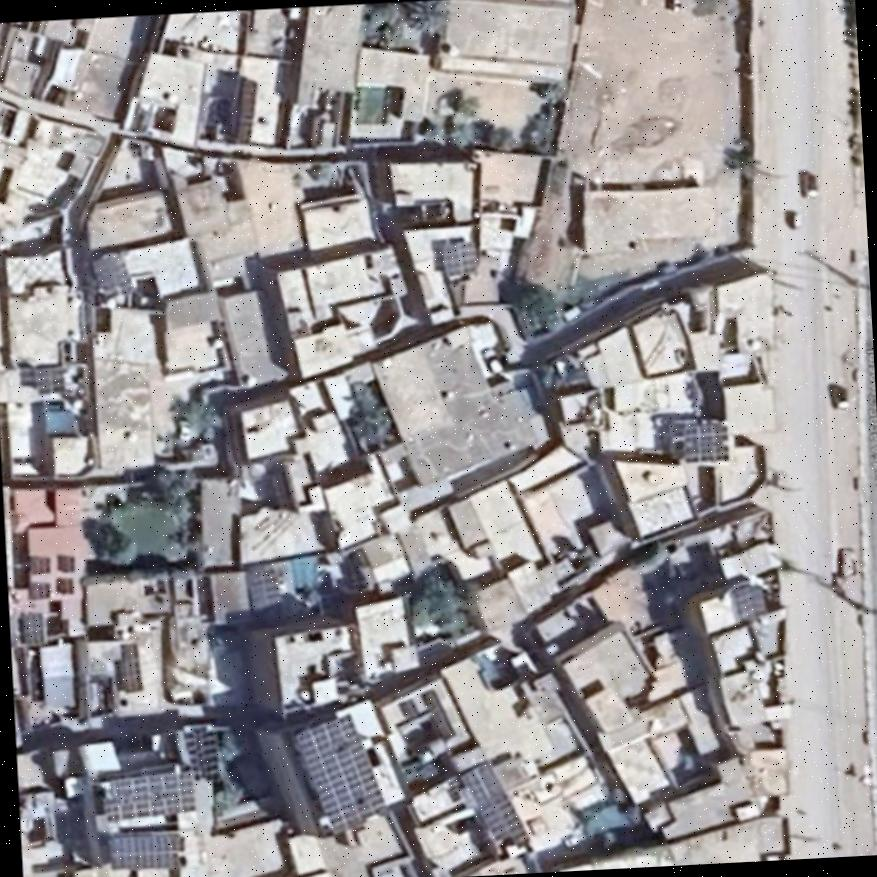Solarpanel: (296, 715, 388, 834), (460, 763, 530, 849), (109, 773, 197, 820), (109, 834, 183, 871), (683, 420, 726, 460), (439, 242, 477, 280), (734, 584, 766, 623), (121, 639, 142, 693), (33, 361, 65, 392), (21, 611, 41, 645)
